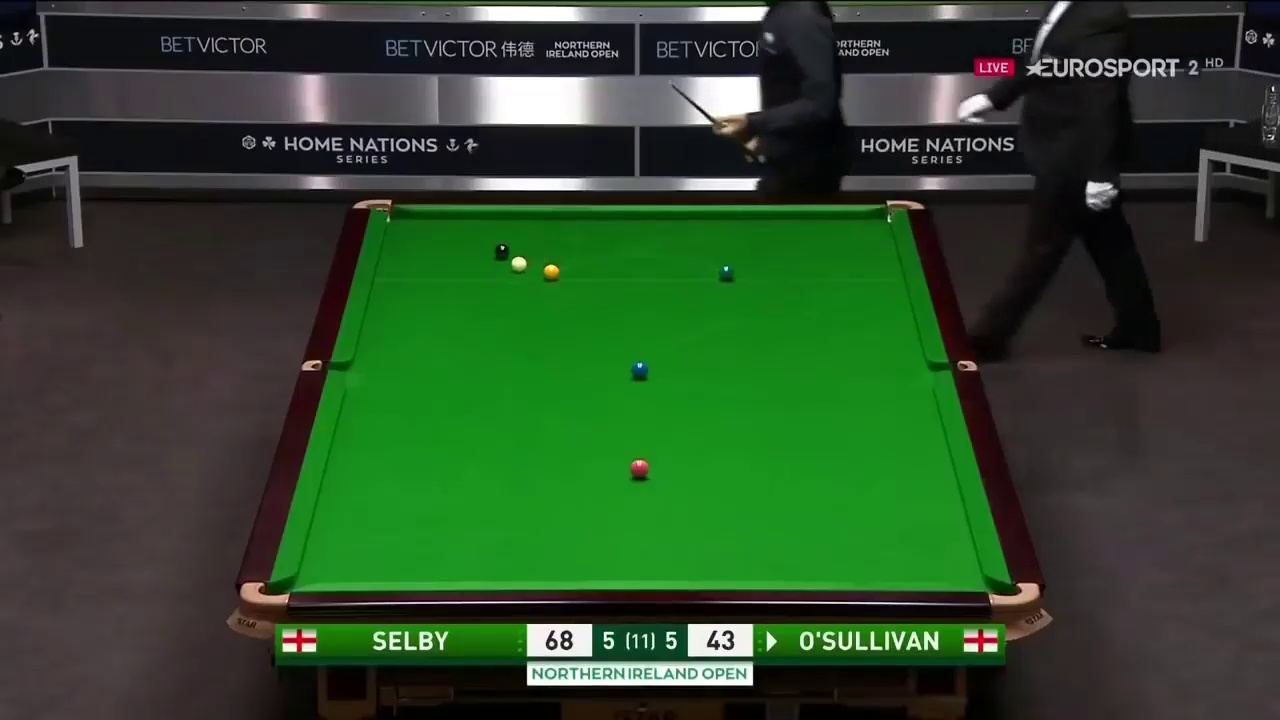black: (492, 243, 510, 257)
blue: (631, 359, 650, 380)
green: (718, 265, 736, 280)
pink: (628, 458, 650, 477)
white: (511, 255, 529, 272)
yellow: (544, 263, 559, 277)
